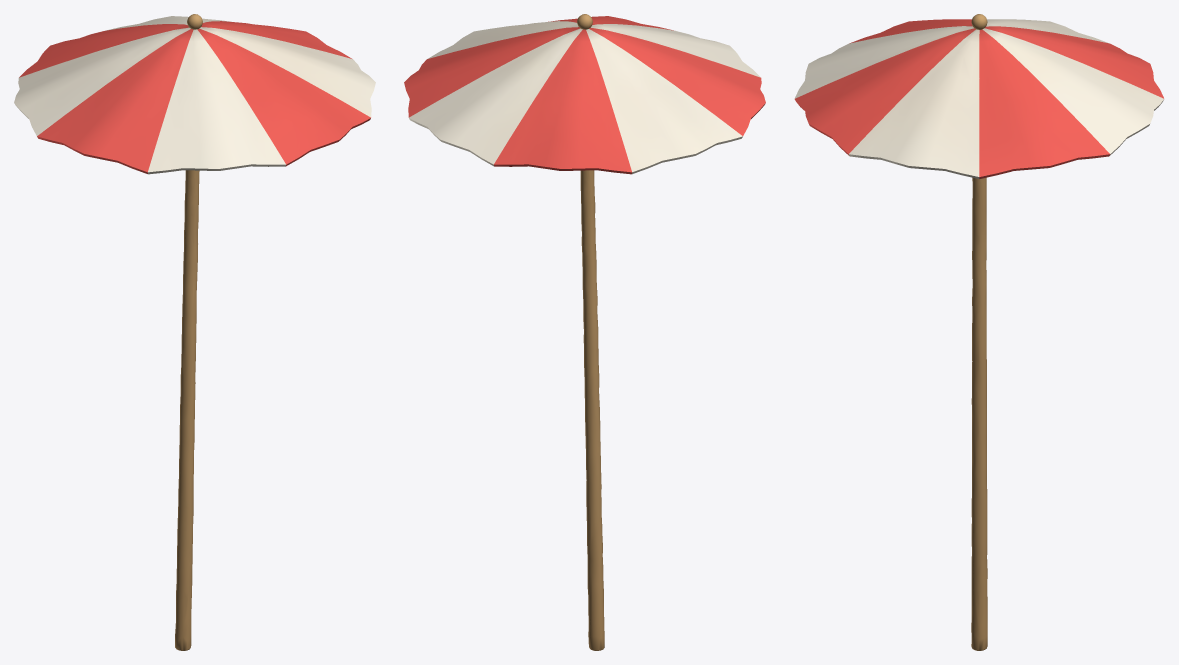
File: shore_umbrella_lod1.glb
3 renders of one model, left to right at view 1: azimuth 30°, elevation 25°; view 2: azimuth 150°, elevation 25°; view 3: azimuth 270°, elevation 25°, orthographic.
Parts seen in each view (by area): view 1: shore_umbrella.001; view 2: shore_umbrella.001; view 3: shore_umbrella.001.
Part boxes in pixels (<box>): shore_umbrella.001: <box>14,14,375,650</box>; shore_umbrella.001: <box>404,14,765,650</box>; shore_umbrella.001: <box>794,14,1164,650</box>.
Size of the model in its own units: 15.87 by 30.26 by 15.87.
